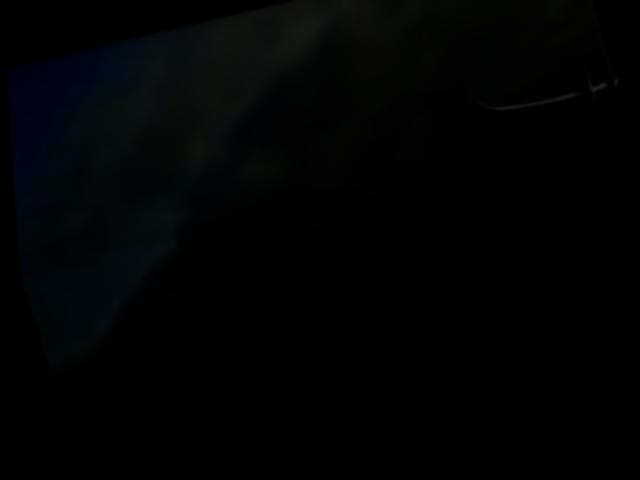iha: (453, 32, 627, 146)
